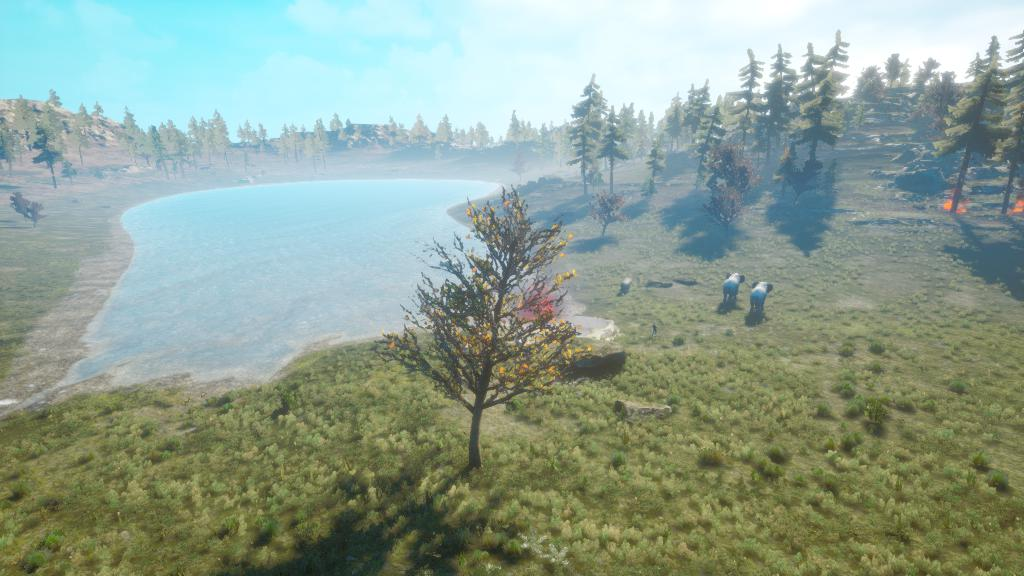Fire: (943, 191, 970, 215), (1011, 197, 1023, 220)
elephant: (744, 274, 776, 323), (720, 264, 747, 310)
hippopotamus: (614, 265, 642, 300)
human: (642, 317, 670, 347)
